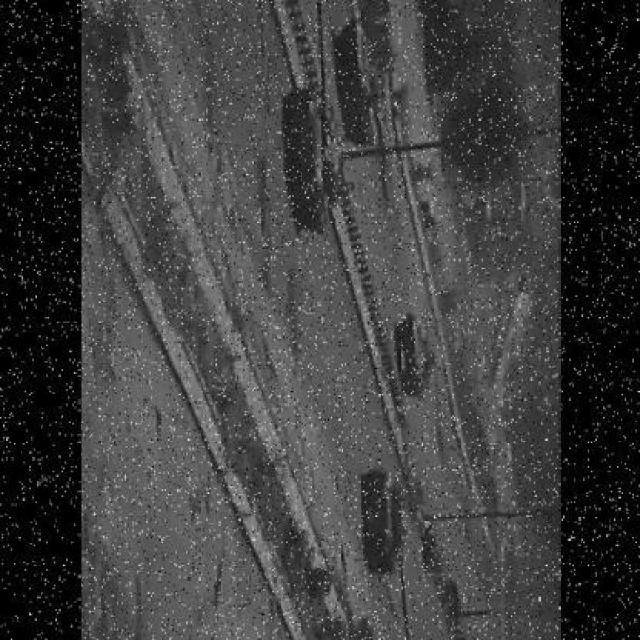Tank: (275, 1, 350, 241), (353, 461, 421, 639), (329, 6, 398, 181), (388, 300, 448, 413)
